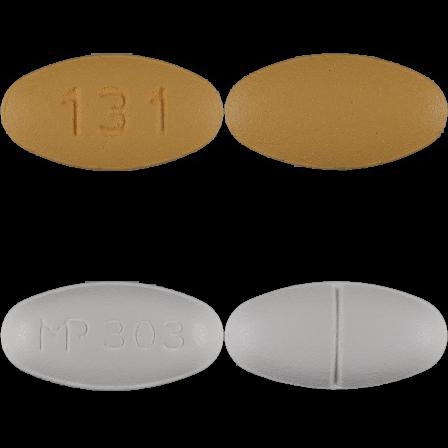63629-4093: (0, 0, 224, 224)
